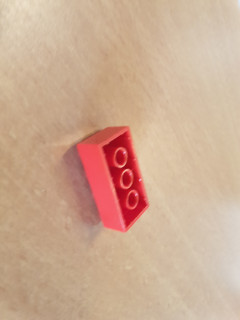2x4 red: (73, 125, 155, 236)
